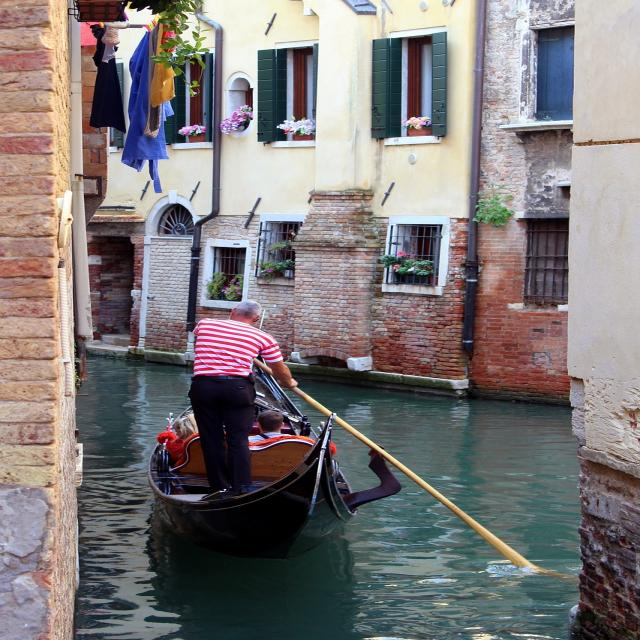boat: (140, 292, 374, 576)
